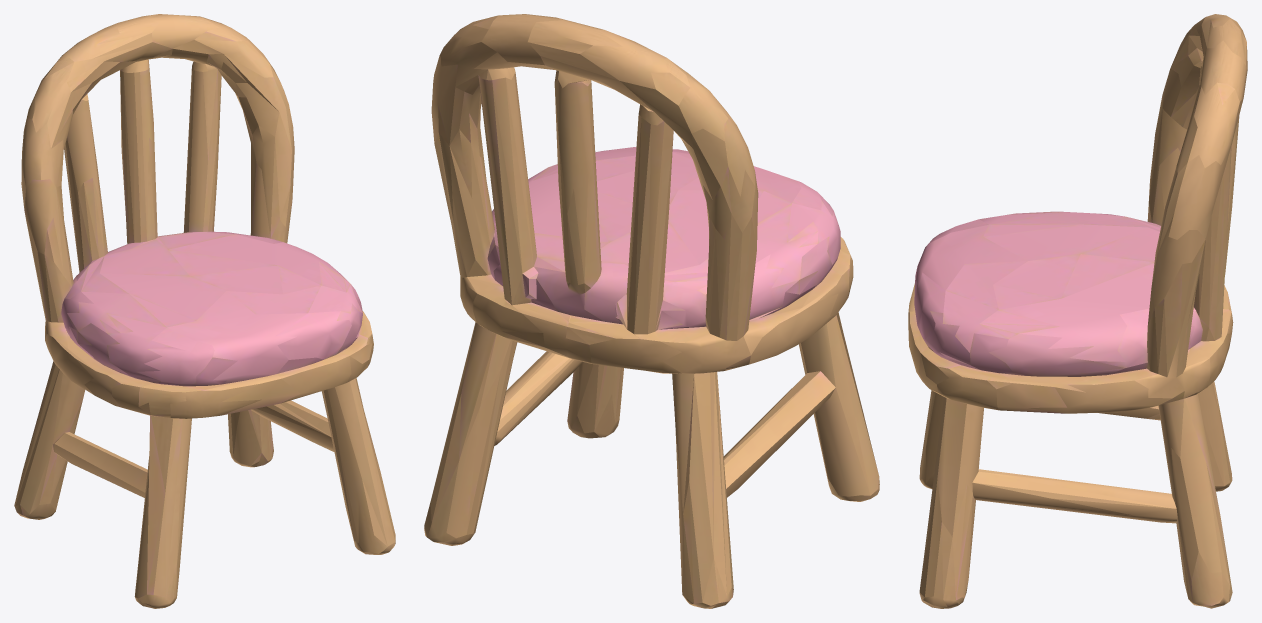
File: cafe-chair.glb
3 views of the same model, side by side, from view 1: azimuth 30°, elevation 25°; view 2: azimuth 150°, elevation 25°; view 3: azimuth 270°, elevation 25° (orthographic). The views are drawn at different scales.
Parts seen in each view (by area): view 1: cafe-chair-fit; view 2: cafe-chair-fit; view 3: cafe-chair-fit.
Part boxes in pixels (x1,y1,x2,y2): cafe-chair-fit: (14, 14, 395, 608); cafe-chair-fit: (424, 14, 879, 608); cafe-chair-fit: (908, 14, 1247, 608).
Bounding box in the file's own units: 0.8246 × 1.35 × 0.8141.
1 material, 1 textured.
